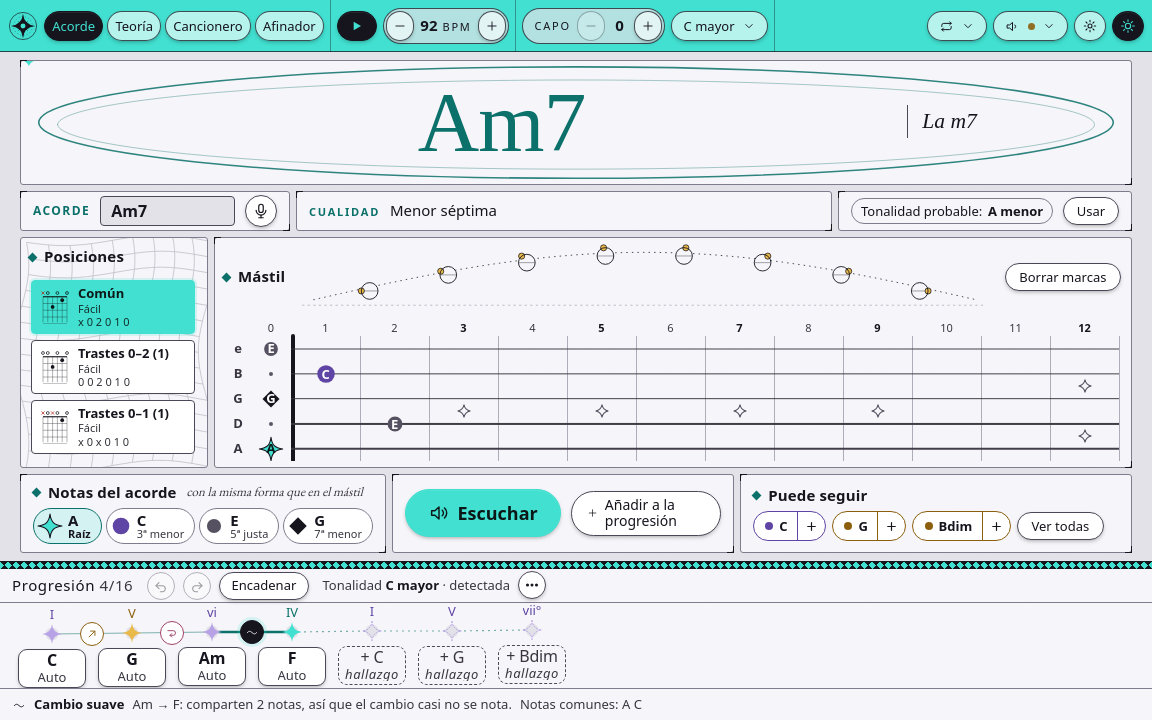
Test: progression menu › opens from the more button and closes with Escape or a press outside
Click the button named "Acciones de la progresión" at coordinates (532, 585), box [518,571,546,599]
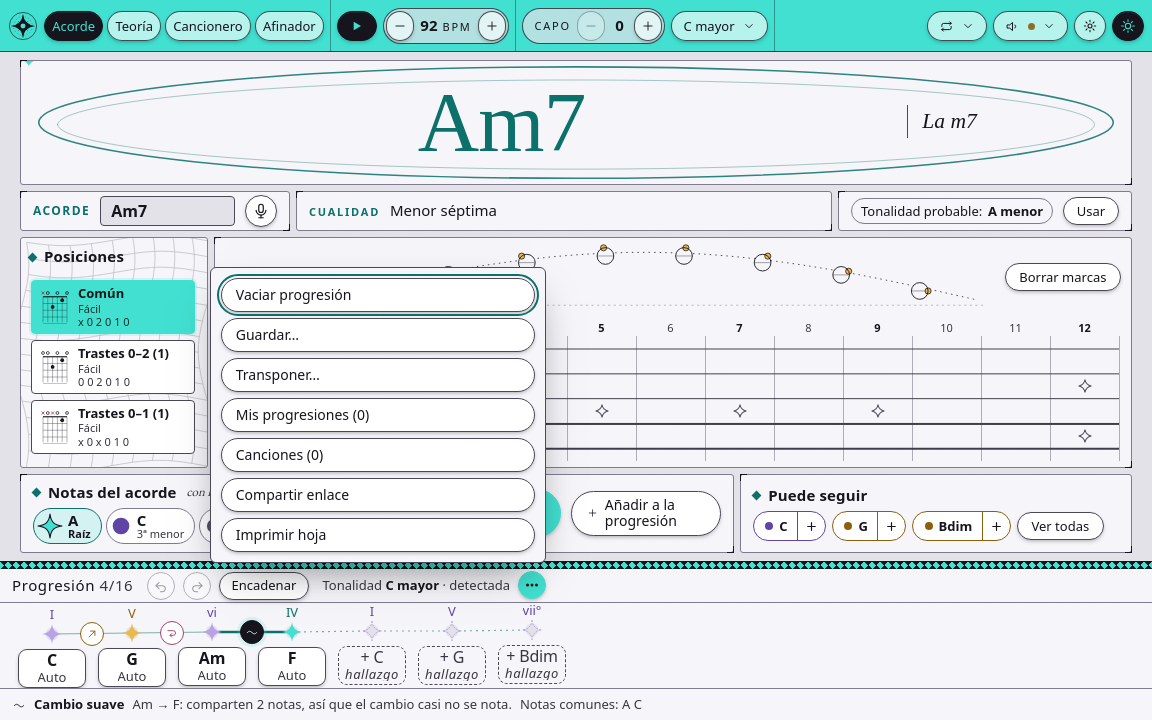
Check: the button named "Acciones de la progresión" is expanded, box [518,571,546,599]
Check: the button "Vaciar progresión" is shown, box [221,278,535,312]
Press Escape
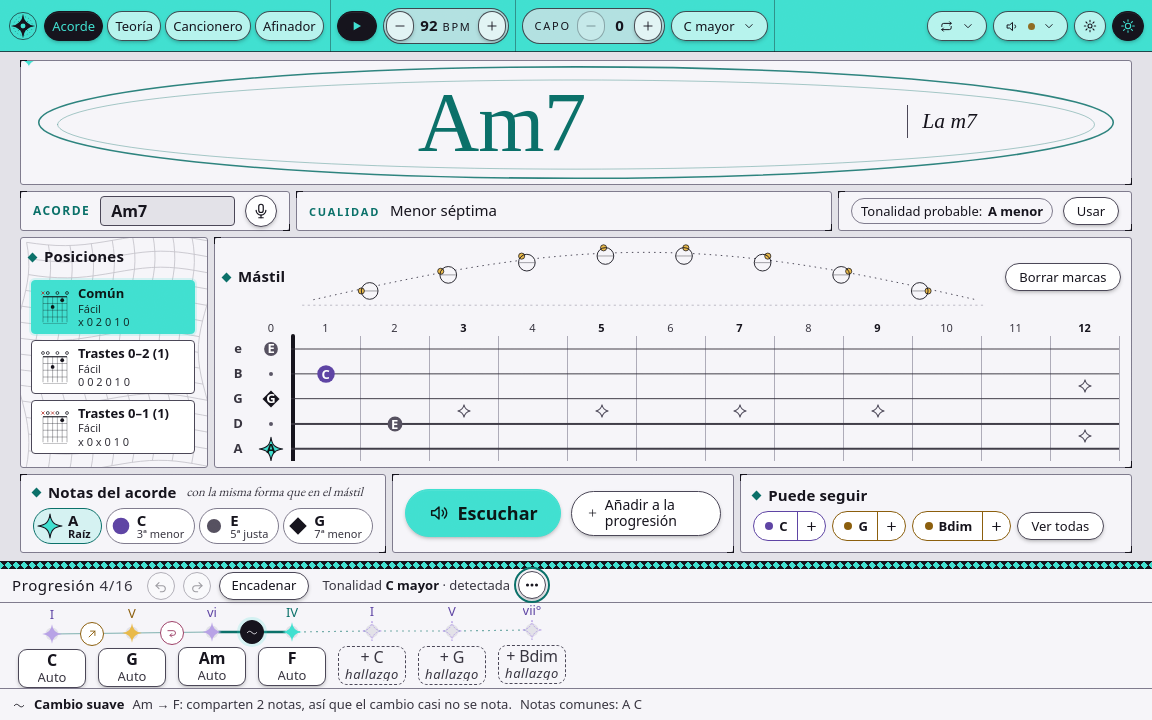
Check: the button "Vaciar progresión" is gone
Click the button named "Acciones de la progresión" at coordinates (532, 585), box [518,571,546,599]
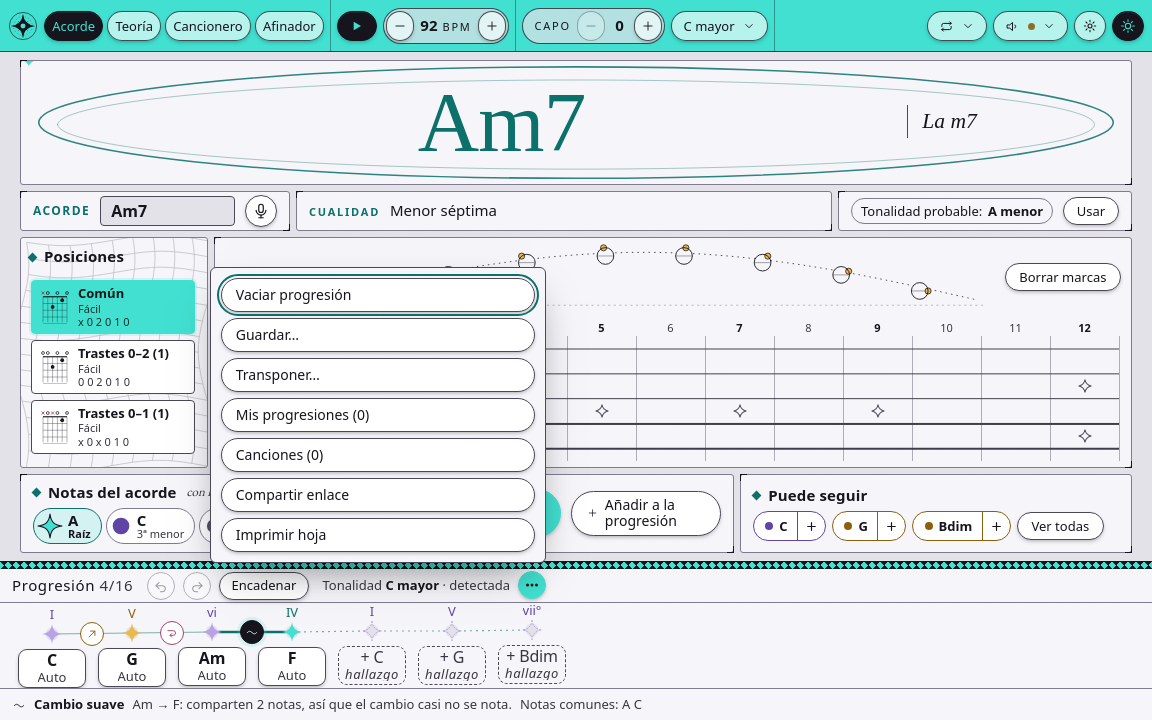
Press the mouse on the element named "Tónica" at coordinates (576, 360), box [0,0,1151,719]
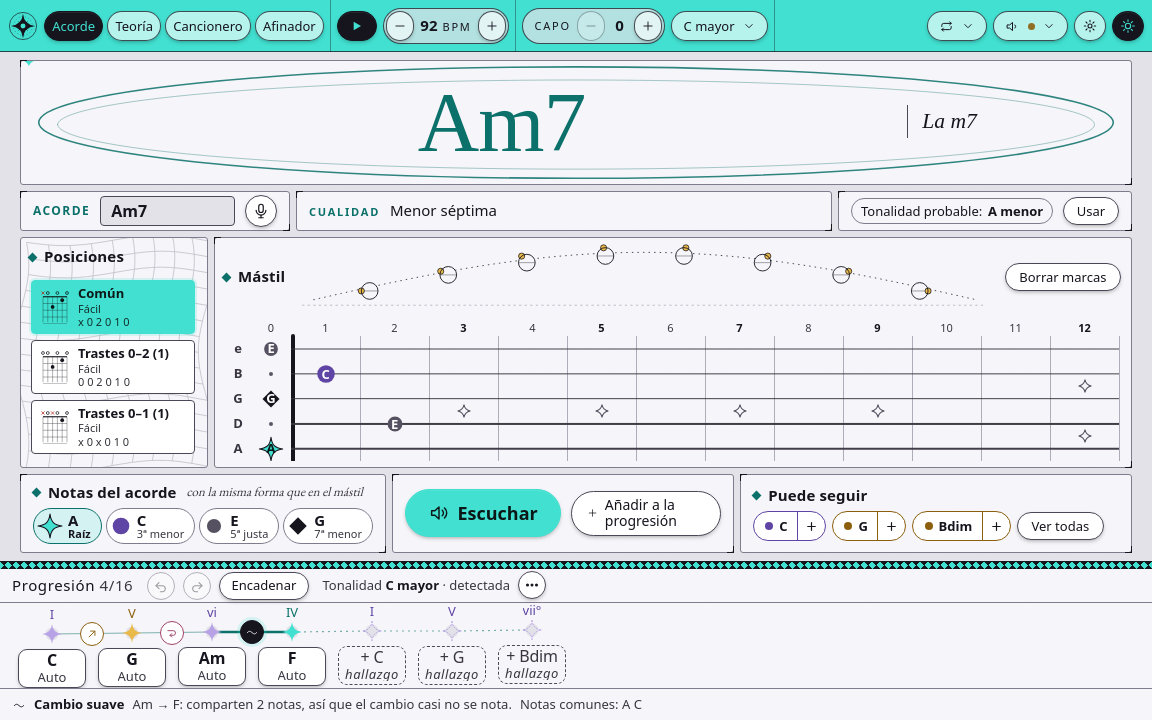
Check: the button "Vaciar progresión" is gone
